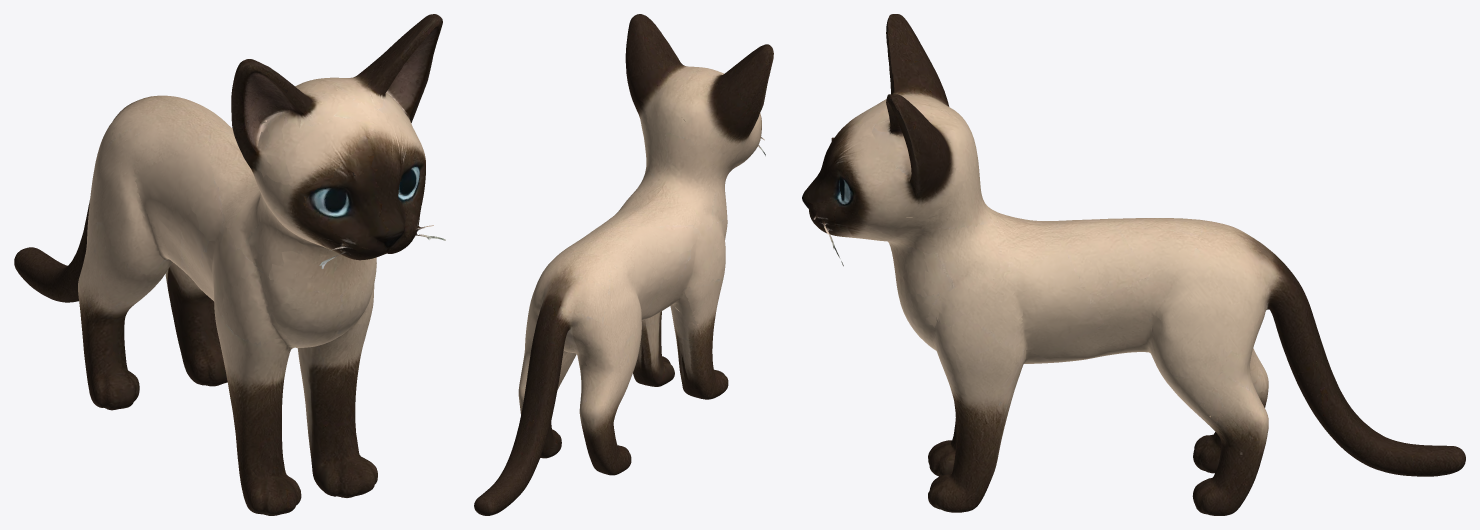
The model's file is meshy-siamese.glb.
The picture shows the model from 3 angles, left to right: view 1: azimuth 30°, elevation 25°; view 2: azimuth 150°, elevation 25°; view 3: azimuth 270°, elevation 25°; orthographic projection. The views are drawn at different scales.
Parts seen in each view (by area): view 1: Mesh_0; view 2: Mesh_0; view 3: Mesh_0.
Part boxes in pixels (x1,y1,x2,y2): Mesh_0: (14,14,445,515); Mesh_0: (474,14,773,515); Mesh_0: (802,14,1465,515).
Size of the model in its own units: 0.6077 by 1.37 by 1.9.
1 material, 1 textured.
